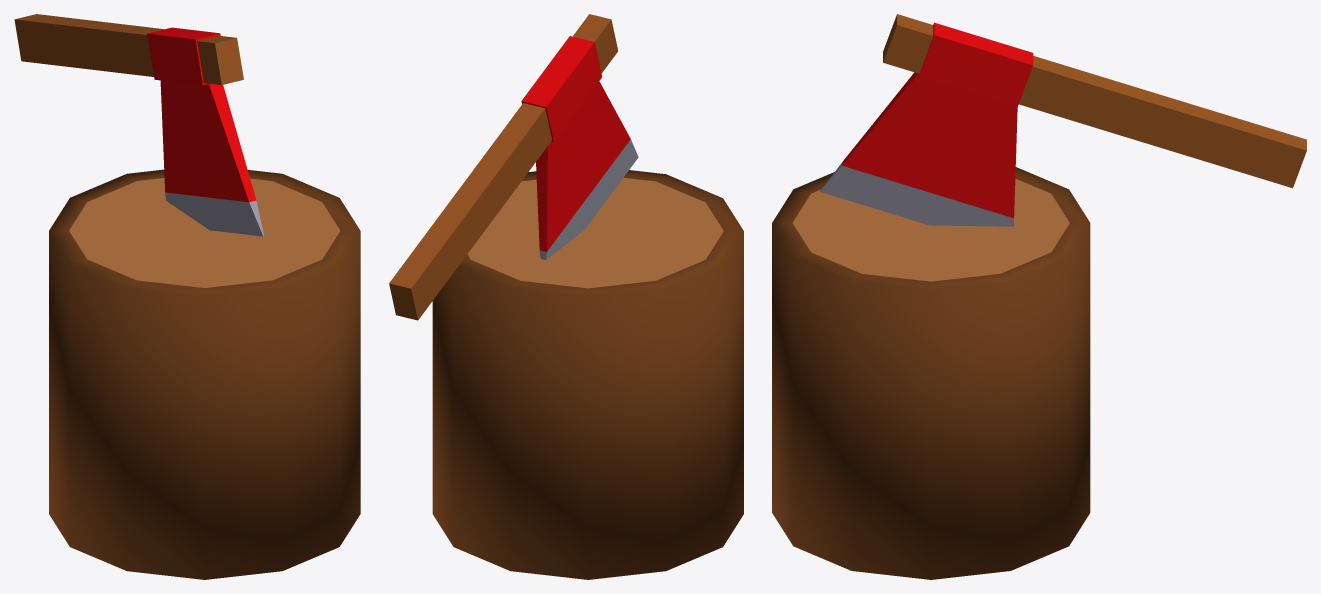
File: wood with axe.fbx
The picture shows the model from 3 angles, left to right: view 1: azimuth 30°, elevation 25°; view 2: azimuth 150°, elevation 25°; view 3: azimuth 270°, elevation 25°; orthographic projection. The views are drawn at different scales.
Parts seen in each view (by area): view 1: wood axe; view 2: wood axe; view 3: wood axe.
Boxes of the visible parts, x1,y1,x2,y2 form: wood axe: [14, 14, 360, 579]; wood axe: [389, 14, 743, 579]; wood axe: [772, 14, 1306, 579].
Bounding box in the file's own units: 0.5287 × 0.9078 × 0.8883.
